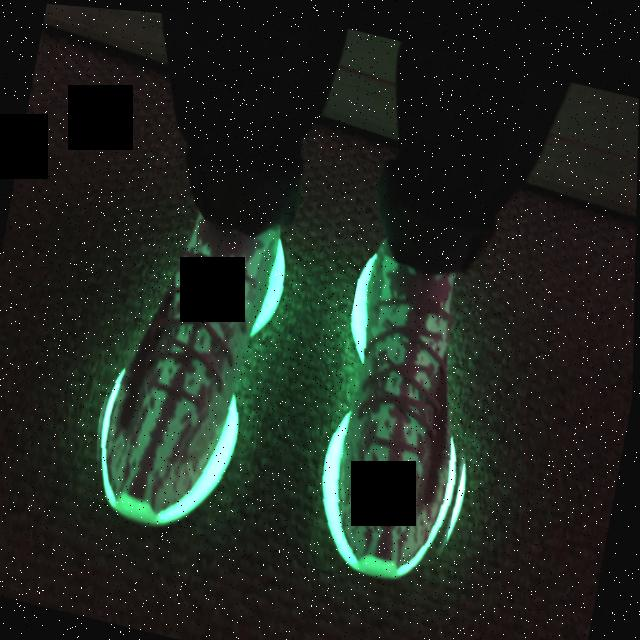shoe: (80, 143, 304, 554), (308, 213, 513, 596)
